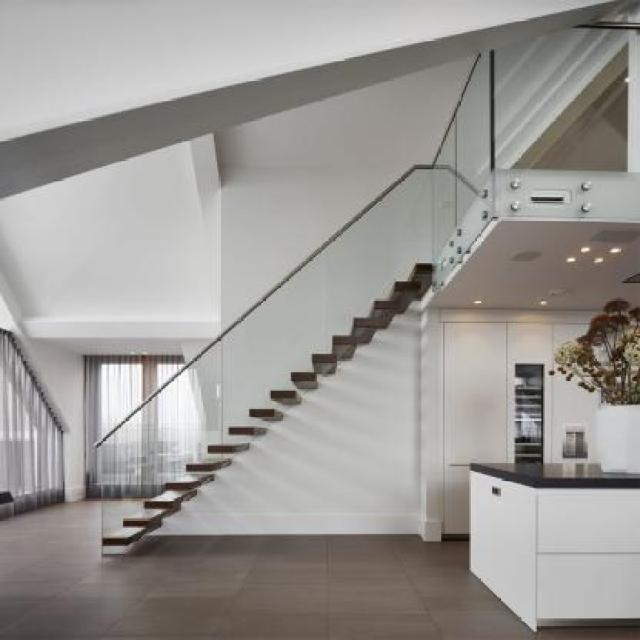stair: (86, 150, 434, 559)
